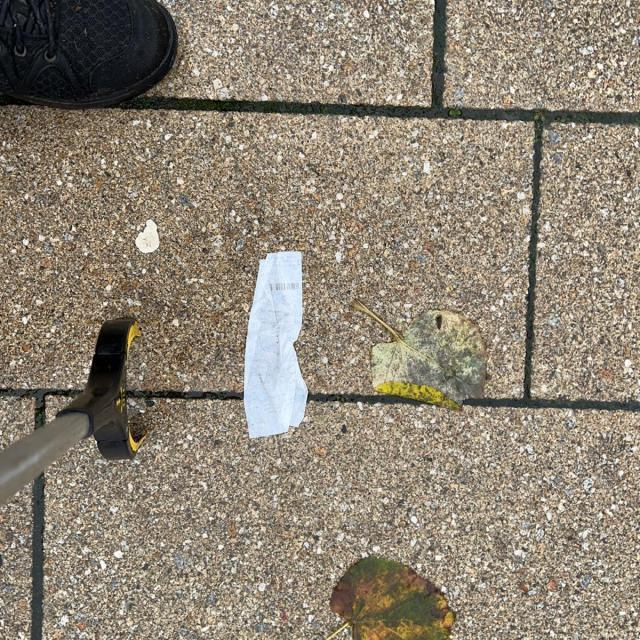Paper: (243, 248, 312, 446)
